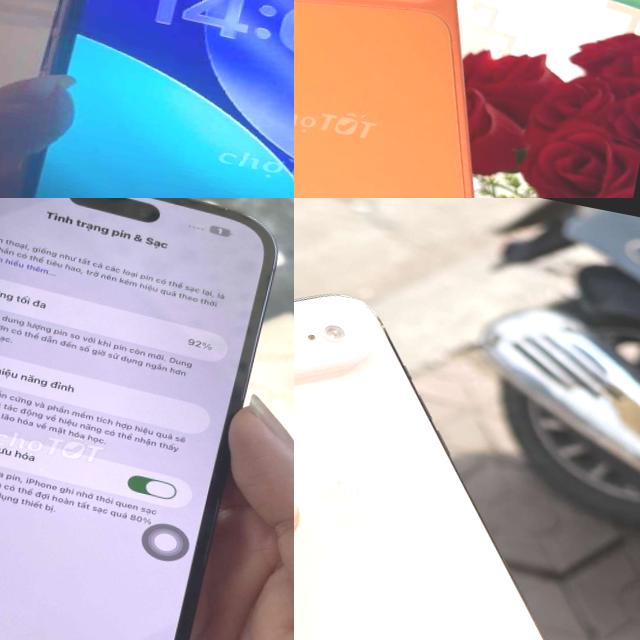gen_12_13: (0, 0, 294, 198)
gen_14: (0, 198, 283, 640)
gen_17: (294, 246, 634, 640), (294, 0, 558, 198)
